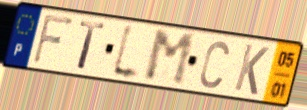C: (198, 39, 231, 91)
F: (30, 12, 77, 66)
K: (231, 42, 271, 98)
L: (108, 21, 142, 85)
M: (143, 29, 197, 88)
T: (75, 20, 108, 72)
